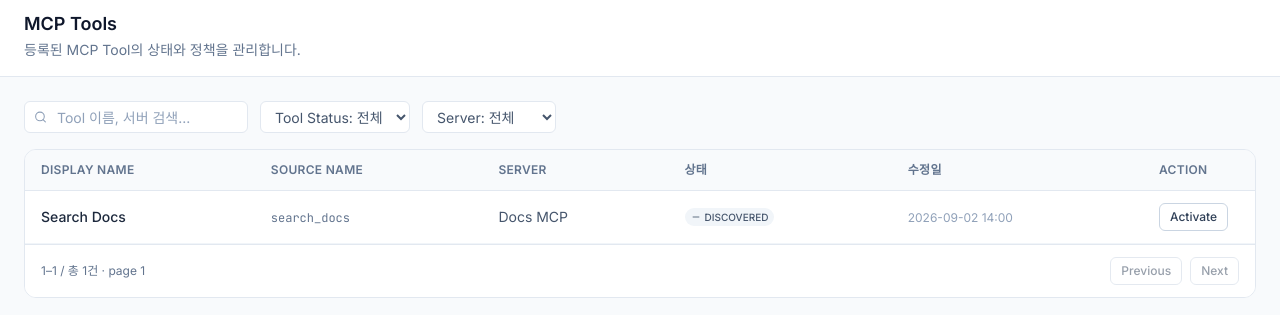
Test: MCPTools — API list + lifecycle › Activate sends If-Match with latest lock_version and updates row
This screenshot has width=1280, height=315.
Expected: the text "Search Docs" is shown, [41, 208, 126, 225]
Click the button "Activate": coordinates (1194, 217) [1159, 203, 1228, 231]
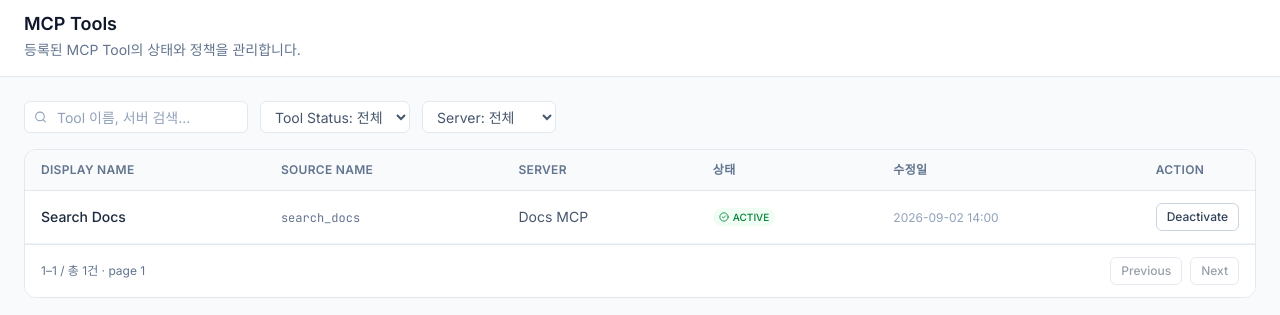
Result: the button "Deactivate" is shown at [1156, 203, 1239, 231]
